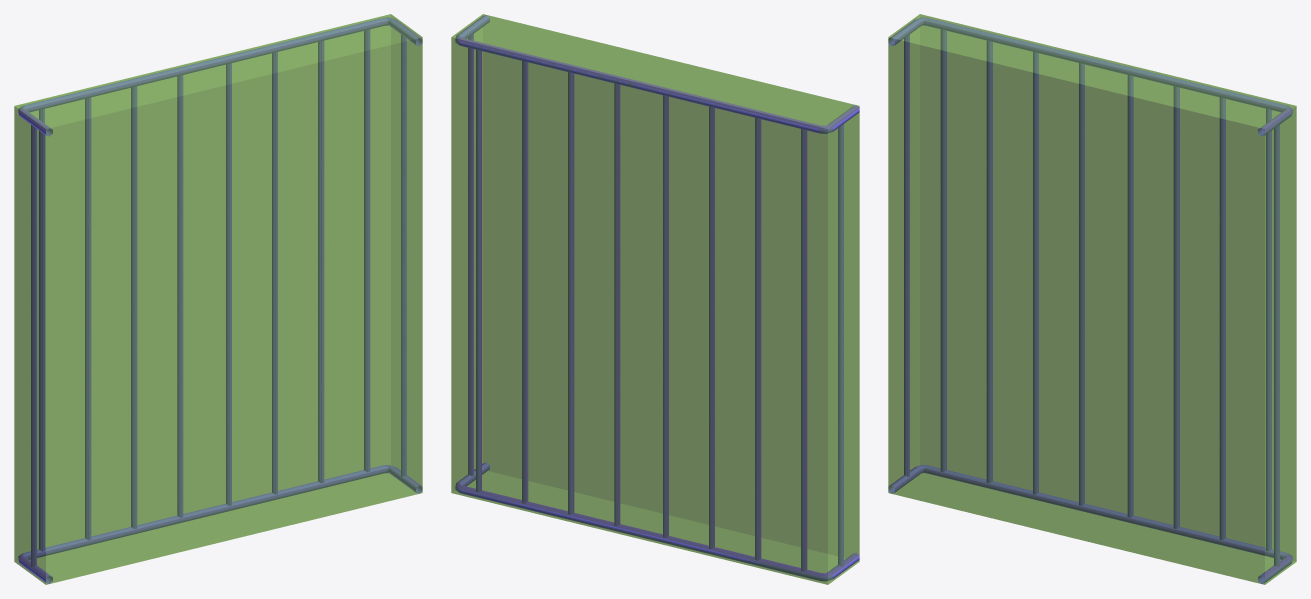
File: F_Cage_S_01.fbx
3 views of the same model, side by side, from view 1: azimuth 30°, elevation 25°; view 2: azimuth 150°, elevation 25°; view 3: azimuth 330°, elevation 25° (orthographic).
Visible parts, largest first — view 1: F_Cage_S_01_col_01, F_Cage_S_01_LOD0; view 2: F_Cage_S_01_col_01, F_Cage_S_01_LOD0; view 3: F_Cage_S_01_col_01, F_Cage_S_01_LOD0.
Part boxes in pixels (x1,y1,x2,y2): F_Cage_S_01_col_01: (14,14,422,584); F_Cage_S_01_LOD0: (18,17,422,583); F_Cage_S_01_col_01: (451,14,859,584); F_Cage_S_01_LOD0: (455,15,859,581); F_Cage_S_01_col_01: (888,14,1296,584); F_Cage_S_01_LOD0: (888,17,1292,583).
Size of what is drawn, in the model's own units: 147 by 170 by 21.5.
2 materials, 1 textured.
